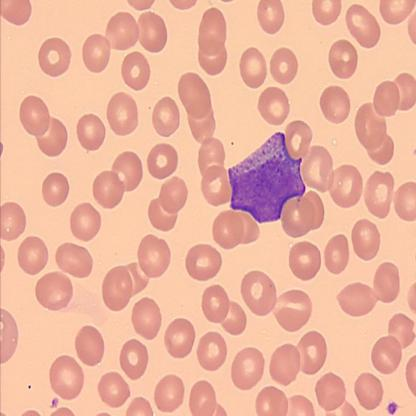Myelocyte: (226, 131, 307, 220)
